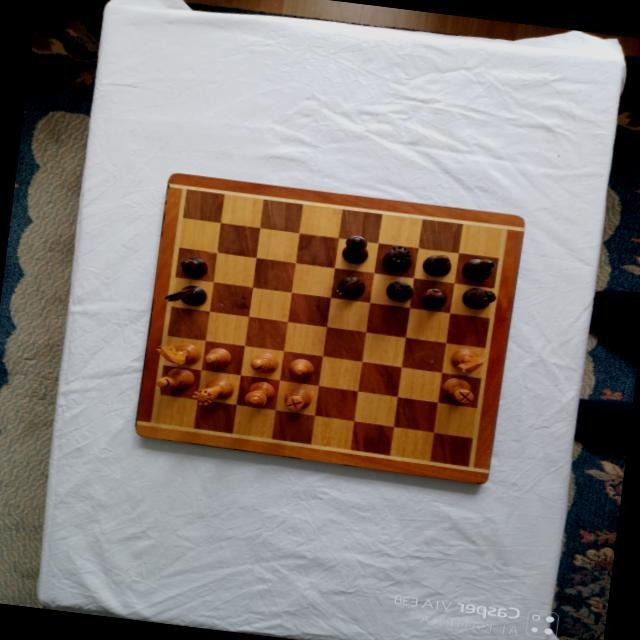black-bishop: (460, 254, 495, 282), (421, 252, 451, 276)
black-king: (341, 232, 369, 263)
black-knight: (163, 280, 207, 307), (334, 273, 365, 299)
black-pawn: (177, 254, 207, 277), (419, 286, 447, 310)
black-queen: (379, 243, 412, 273)
black-rook: (460, 284, 496, 310), (384, 278, 414, 302)
white-bishop: (155, 364, 195, 390), (249, 350, 279, 373)
white-king: (243, 379, 276, 407)
white-knight: (154, 338, 202, 365), (448, 346, 488, 375)
white-pawn: (287, 355, 315, 378), (204, 344, 232, 367)
white-queen: (191, 373, 233, 408)
white-rook: (440, 375, 475, 405), (281, 384, 312, 411)
